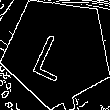L_NE: (33, 22, 81, 81)
